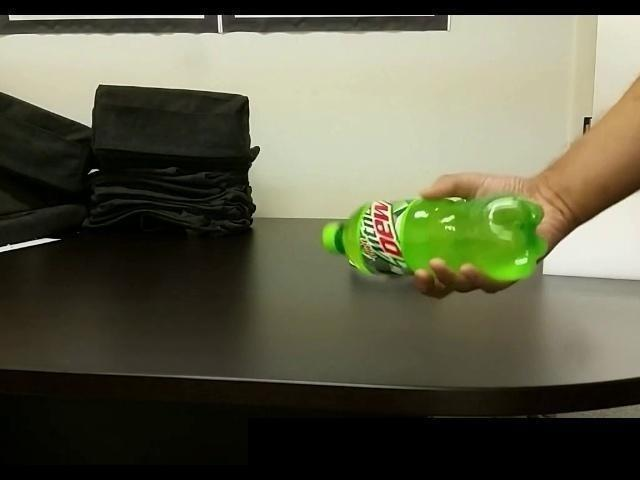bottle-plastic: (317, 192, 549, 287)
